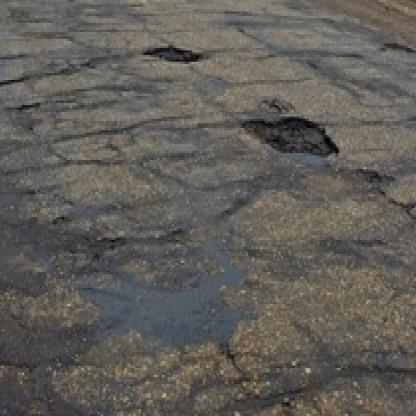pothole: (241, 115, 341, 156), (145, 46, 203, 62), (354, 167, 381, 183), (385, 41, 414, 53), (260, 101, 281, 112), (12, 103, 40, 110)
